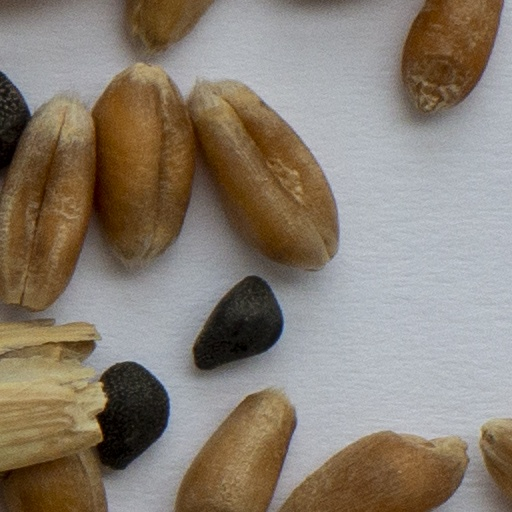Peel-poly: (0, 323, 101, 471)
